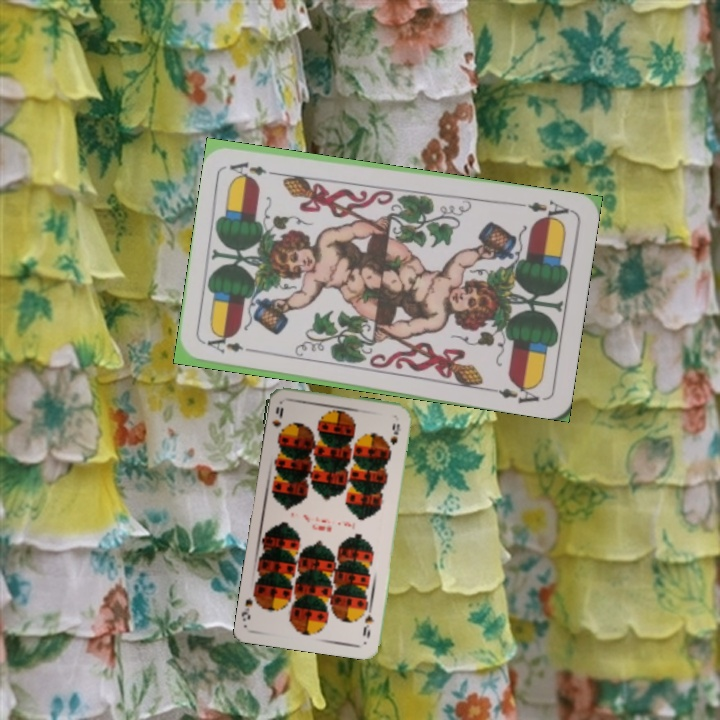EA: (515, 196, 574, 225), (203, 334, 260, 356)
S9: (268, 403, 286, 441), (359, 603, 377, 641)
